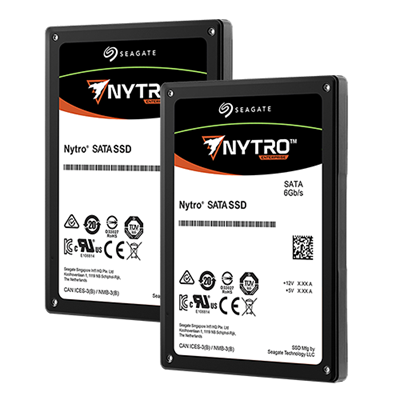seagate-hdd-240gb: (156, 72, 351, 370)
